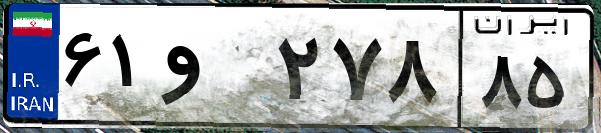1: (110, 28, 158, 98)
2: (270, 28, 330, 110)
5: (525, 38, 570, 115)
6: (57, 26, 110, 100)
7: (330, 28, 385, 110)
8: (385, 28, 445, 110), (475, 38, 525, 113)
و: (158, 20, 270, 120)
